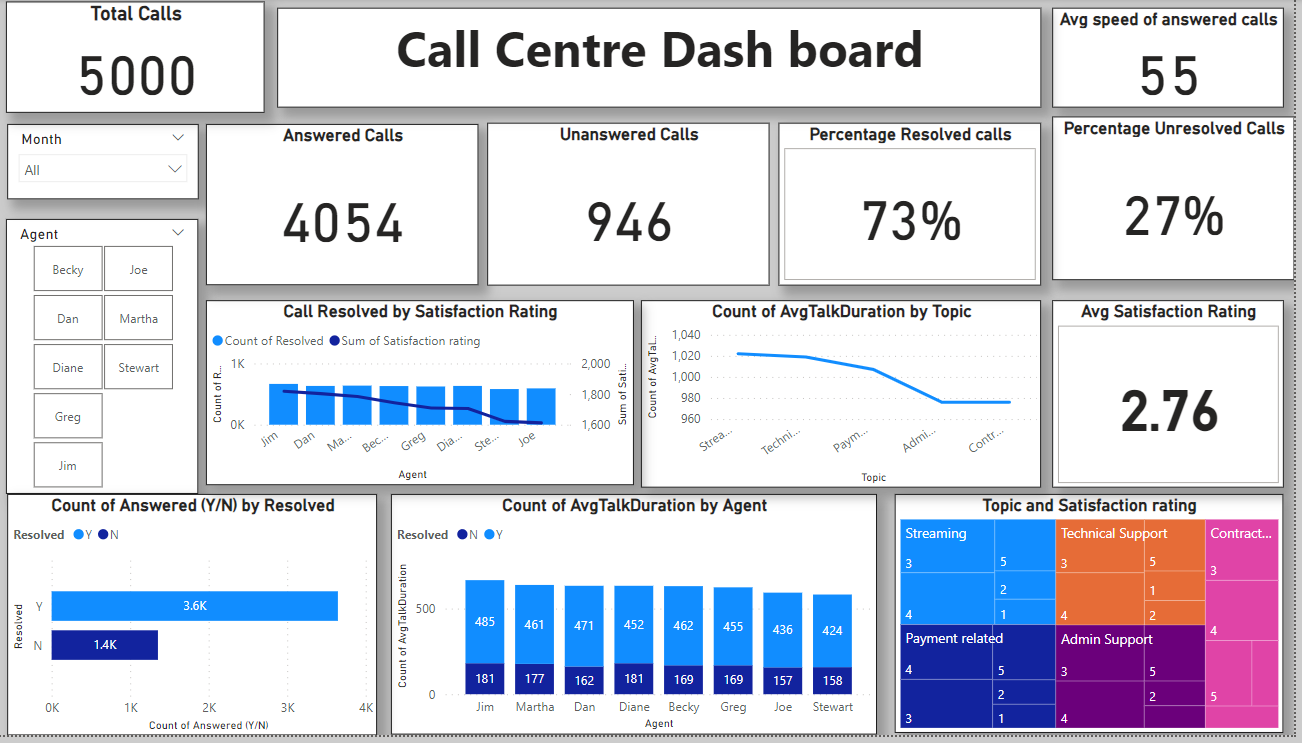

This screenshot's page, from the dashboard's own definition file:
{"tool":"powerbi","page":{"name":"call_centre","canvas":[1280,720],"ordinal":0},"visuals":[{"type":"columnChart","title":"Count of AvgTalkDuration by Agent ","fields":{"Category":["call_centre.Agent"],"Series":["call_centre.Resolved"],"Y":["CountNonNull(call_centre.AvgTalkDuration)"]},"box":[395.7,483.5,475.4,235],"z":0},{"type":"slicer","fields":{"Values":["call_centre.Agent"]},"box":[19.6,215.1,188.3,268.9],"z":1000},{"type":"treemap","title":" Topic and Satisfaction rating","fields":{"Group":["call_centre.Topic"],"Details":["call_centre.Satisfaction rating"],"Values":["Sum(call_centre.Speed of answer in seconds)"]},"box":[888.3,484.2,379.7,233.3],"z":2000},{"type":"lineChart","title":"Count of AvgTalkDuration by Topic","fields":{"Category":["call_centre.Topic"],"Y":["CountNonNull(call_centre.AvgTalkDuration)"]},"box":[640.5,294.6,391.2,183.4],"z":3000},{"type":"barChart","title":"Count of Answered (Y/N) by Resolved ","fields":{"Y":["CountNonNull(call_centre.Answered (Y/N))"],"Category":["call_centre.Resolved"],"Series":["call_centre.Resolved"]},"box":[20.3,483.5,361.9,236.3],"z":4000},{"type":"lineStackedColumnComboChart","title":"Call Resolved by Satisfaction Rating","fields":{"Y":["CountNonNull(call_centre.Resolved)"],"Y2":["Sum(call_centre.Satisfaction rating)"],"Category":["call_centre.Agent"]},"box":[215.1,294.6,418.1,180.9],"z":5000},{"type":"slicer","title":"Speed of answer in seconds by Satisfaction rating","fields":{"Values":["call_centre.Date.Variation.Date Hierarchy.Month"]},"box":[20.8,122.2,187,73.3],"z":6000},{"type":"card","title":"Answered Calls","fields":{"Values":["call_centre.Answered Calls"]},"box":[215.1,122.2,266.5,157.7],"z":7000},{"type":"card","title":"Unanswered Calls","fields":{"Values":["call_centre.Unanswered Calls"]},"box":[490.2,121,276.3,158.9],"z":8000},{"type":"card","title":"Total Calls","fields":{"Values":["call_centre.Total Calls"]},"box":[20,2.9,253.1,108.7],"z":9000},{"type":"card","title":"Avg speed of answered calls","fields":{"Values":["call_centre.Avg Speed of Answers"]},"box":[1042.7,8.6,226.1,97.8],"z":10000},{"type":"cardVisual","title":"Avg Satisfaction  Rating","fields":{"Data":["call_centre.Avg statisfaction rating"]},"box":[1042.7,294.6,226.1,183.4],"z":11000},{"type":"card","title":"Percentage Unresolved Calls","fields":{"Values":["call_centre.PERCENTAGE UNRESOLVED"]},"box":[1042.7,114.9,237.1,160.1],"z":12000},{"type":"cardVisual","title":"Percentage Resolved calls","fields":{"Data":["call_centre.percentage_resolved"]},"box":[775,121,256.7,158.9],"z":13000},{"type":"textbox","box":[284.8,8.6,746.9,97.8],"z":14000}]}

Visuals, with their boxes in screenshot pixels (x1, y1, x2, y2), scaled from the page's 1280x720 canvas onto the 1302x743 screenshot:
"Count of AvgTalkDuration by Agent " columnChart: (x1=403, y1=499, x2=886, y2=741)
slicer - call_centre.Agent: (x1=20, y1=222, x2=211, y2=499)
" Topic and Satisfaction rating" treemap: (x1=904, y1=500, x2=1290, y2=740)
"Count of AvgTalkDuration by Topic" lineChart: (x1=652, y1=304, x2=1049, y2=493)
"Count of Answered (Y/N) by Resolved " barChart: (x1=21, y1=499, x2=389, y2=742)
"Call Resolved by Satisfaction Rating" lineStackedColumnComboChart: (x1=219, y1=304, x2=644, y2=491)
"Speed of answer in seconds by Satisfaction rating" slicer: (x1=21, y1=126, x2=211, y2=202)
"Answered Calls" card: (x1=219, y1=126, x2=490, y2=289)
"Unanswered Calls" card: (x1=499, y1=125, x2=780, y2=289)
"Total Calls" card: (x1=20, y1=3, x2=278, y2=115)
"Avg speed of answered calls" card: (x1=1061, y1=9, x2=1291, y2=110)
"Avg Satisfaction  Rating" cardVisual: (x1=1061, y1=304, x2=1291, y2=493)
"Percentage Unresolved Calls" card: (x1=1061, y1=119, x2=1301, y2=284)
"Percentage Resolved calls" cardVisual: (x1=788, y1=125, x2=1049, y2=289)
textbox: (x1=290, y1=9, x2=1049, y2=110)
